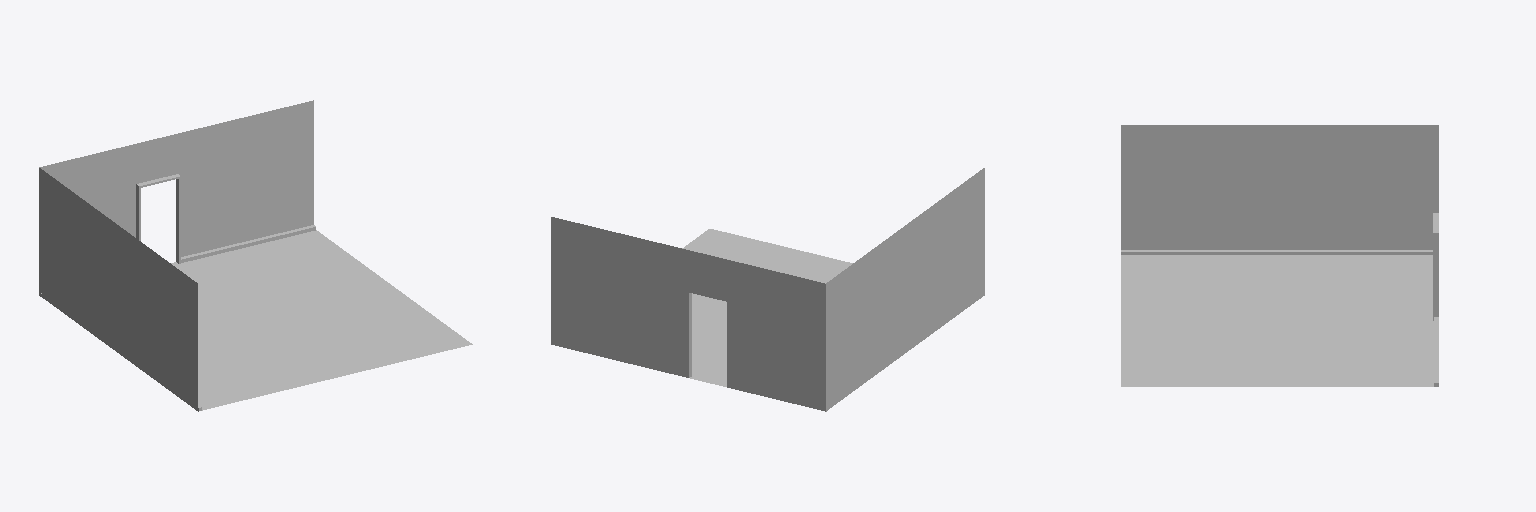
Rendered from libraryRoom.obj.
The picture shows the model from 3 angles: view 1: azimuth 30°, elevation 25°; view 2: azimuth 150°, elevation 25°; view 3: azimuth 270°, elevation 25°; orthographic projection.
Parts seen in each view (by area): view 1: Room; view 2: Room; view 3: Room.
Part boxes in pixels (x1,y1,x2,y2): Room: (39, 100, 472, 411); Room: (551, 168, 984, 411); Room: (1121, 125, 1438, 386).
Size of the model in its own units: 77.23 by 34.34 by 77.22.